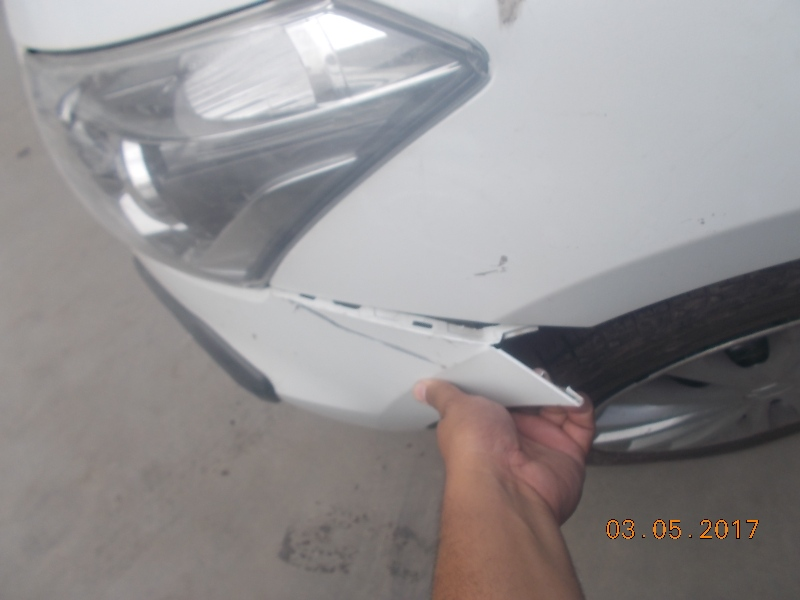Tear: (496, 317, 576, 411)
